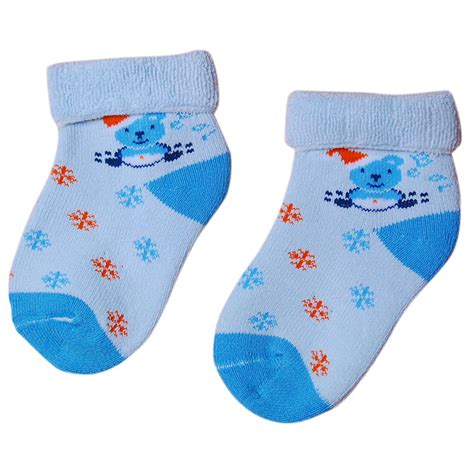flexible: (217, 84, 465, 421), (5, 42, 234, 376)
